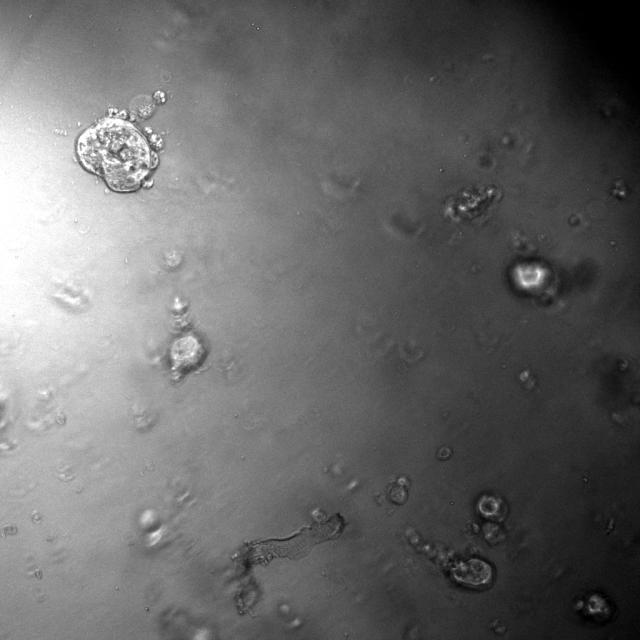organoid: (75, 90, 166, 192), (405, 527, 496, 592), (168, 297, 208, 379), (464, 490, 509, 545), (444, 185, 501, 221), (387, 475, 409, 505), (437, 445, 452, 460)
